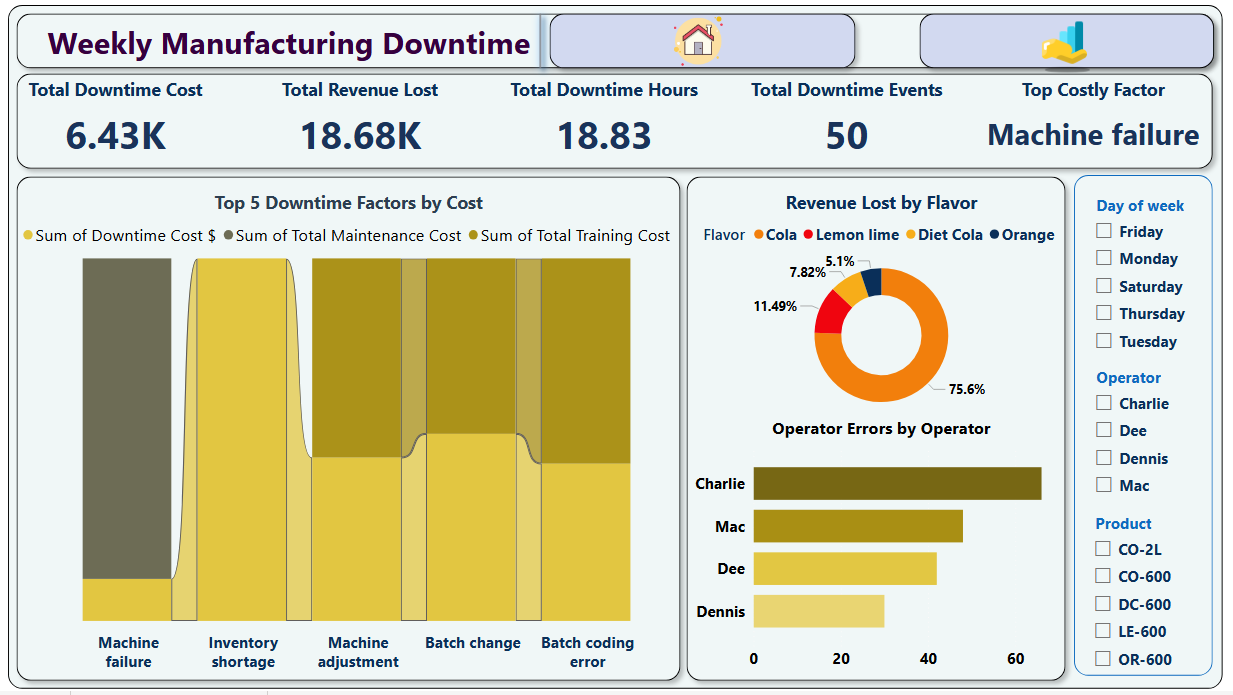

What the dashboard file says about the page in this screenshot:
{"tool":"powerbi","page":{"name":"👀Overview ","canvas":[1280,720],"ordinal":1},"visuals":[{"type":"shape","box":[1.5,0,1278.5,719.7],"z":0},{"type":"shape","box":[1.5,62.9,1277.1,118.5],"z":1000},{"type":"shape","box":[1.5,171.2,716.8,548.6],"z":2000},{"type":"shape","box":[706.6,171.2,416.9,548.6],"z":3000},{"type":"shape","box":[1123.5,178.5,146.3,528.1],"z":4000},{"type":"card","title":"Total Downtime Events","fields":{"Values":["line-downtime.Number of Downtime Events"]},"box":[770.2,76.1,226.7,95.1],"z":5000},{"type":"card","title":"Total Downtime Hours","fields":{"Values":["line-downtime.Total Downtime Hours"]},"box":[513.5,76.1,229.7,95.1],"z":6000},{"type":"card","title":"Total Revenue Lost","fields":{"Values":["line-downtime.Total Revenue Lost"]},"box":[255.3,76.1,231.1,95.1],"z":7000},{"type":"card","title":"Total Downtime Cost","fields":{"Values":["line-downtime.Total Cost2"]},"box":[0,76.1,228.2,95.1],"z":8000},{"type":"slicer","title":"Day","fields":{"Values":["line-productivity.Day of week"]},"box":[1133.7,194.6,146.3,181.4],"z":9000},{"type":"slicer","fields":{"Values":["products.Product"]},"box":[1132.3,529.6,147.7,179.9],"z":10000},{"type":"hundredPercentStackedColumnChart","title":"Top 5 Downtime Factors by Cost","fields":{"Y":["Sum(line-downtime.Downtime Cost $)","Sum(line-downtime.Total Maintenance Cost)","Sum(line-downtime.Total Training Cost)"],"Category":["downtime-factors.Description"]},"box":[5.9,194.6,706.6,514.9],"z":11000},{"type":"donutChart","title":" Revenue Lost by Flavor","fields":{"Category":["products.Flavor"],"Y":["Sum(line-downtime.Revenue Lost)"]},"box":[718.3,194.6,405.2,248.7],"z":12000},{"type":"clusteredBarChart","title":"Operator Errors by Operator","fields":{"Category":["line-productivity.Operator"],"Y":["line-downtime.Operator Errors Count"]},"box":[718.3,433,405.2,276.5],"z":13000},{"type":"card","title":"Top Costly Factor","fields":{"Values":["line-downtime.Most Costly Downtime Factor"]},"box":[1024,76.1,238.4,95.1],"z":14000},{"type":"slicer","fields":{"Values":["line-productivity.Operator"]},"box":[1133.7,376,144.8,153.6],"z":15000},{"type":"shape","box":[1.5,0,1278.5,75.6],"z":16000},{"type":"shape","box":[590.5,0,340,75.7],"z":17000},{"type":"shape","box":[951.6,0,328.4,75.6],"z":18000},{"type":"textbox","box":[35.8,11,707.4,96.3],"z":19000},{"type":"shape","box":[550.5,0,60.6,75.7],"z":20000},{"type":"image","box":[963.3,0,306.6,75.6],"z":21000},{"type":"image","box":[611.1,0,309.7,75.7],"z":22000},{"type":"image","box":[6.9,5.5,57.8,57.8],"z":23000}]}

Visuals, with their boxes in screenshot pixels (x1, y1, x2, y2), scaled from the page's 1280x720 canvas onto the 1233x695 screenshot:
shape: crop(1, 0, 1232, 694)
shape: crop(1, 61, 1232, 175)
shape: crop(1, 165, 692, 694)
shape: crop(681, 165, 1082, 694)
shape: crop(1082, 172, 1223, 682)
"Total Downtime Events" card: crop(742, 73, 960, 165)
"Total Downtime Hours" card: crop(495, 73, 716, 165)
"Total Revenue Lost" card: crop(246, 73, 469, 165)
"Total Downtime Cost" card: crop(0, 73, 220, 165)
"Day" slicer: crop(1092, 188, 1232, 363)
slicer - products.Product: crop(1091, 511, 1232, 685)
"Top 5 Downtime Factors by Cost" hundredPercentStackedColumnChart: crop(6, 188, 686, 685)
" Revenue Lost by Flavor" donutChart: crop(692, 188, 1082, 428)
"Operator Errors by Operator" clusteredBarChart: crop(692, 418, 1082, 685)
"Top Costly Factor" card: crop(986, 73, 1216, 165)
slicer - line-productivity.Operator: crop(1092, 363, 1232, 511)
shape: crop(1, 0, 1232, 73)
shape: crop(569, 0, 896, 73)
shape: crop(917, 0, 1232, 73)
textbox: crop(34, 11, 716, 104)
shape: crop(530, 0, 589, 73)
image: crop(928, 0, 1223, 73)
image: crop(589, 0, 887, 73)
image: crop(7, 5, 62, 61)
